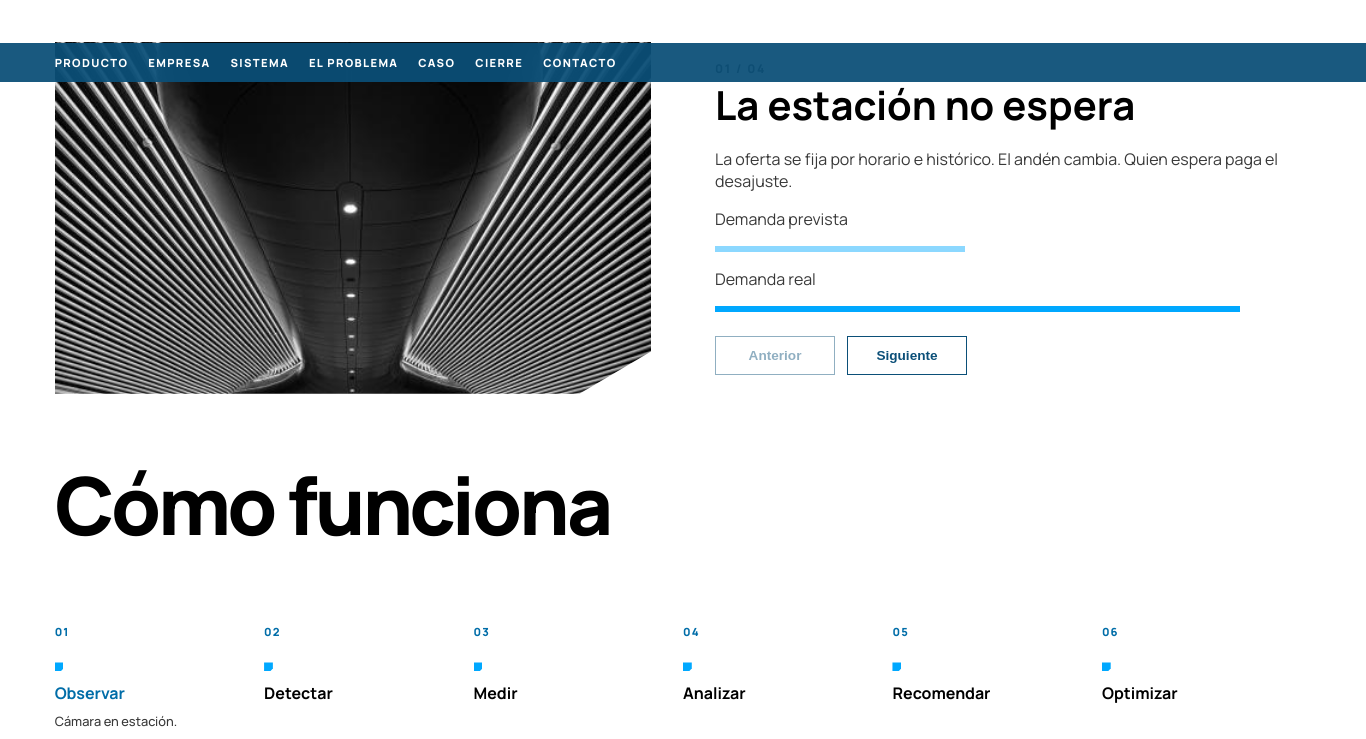
Test case: explains the product first, then the Transmilenio case and evidence
(page scrolled)
Expected: the heading "La estación no espera" is shown, [715, 77, 1135, 132]
Expected: the text "Observar" is shown, [55, 682, 125, 704]
Click the button "Siguiente" at coordinates (907, 356), box [847, 336, 967, 375]
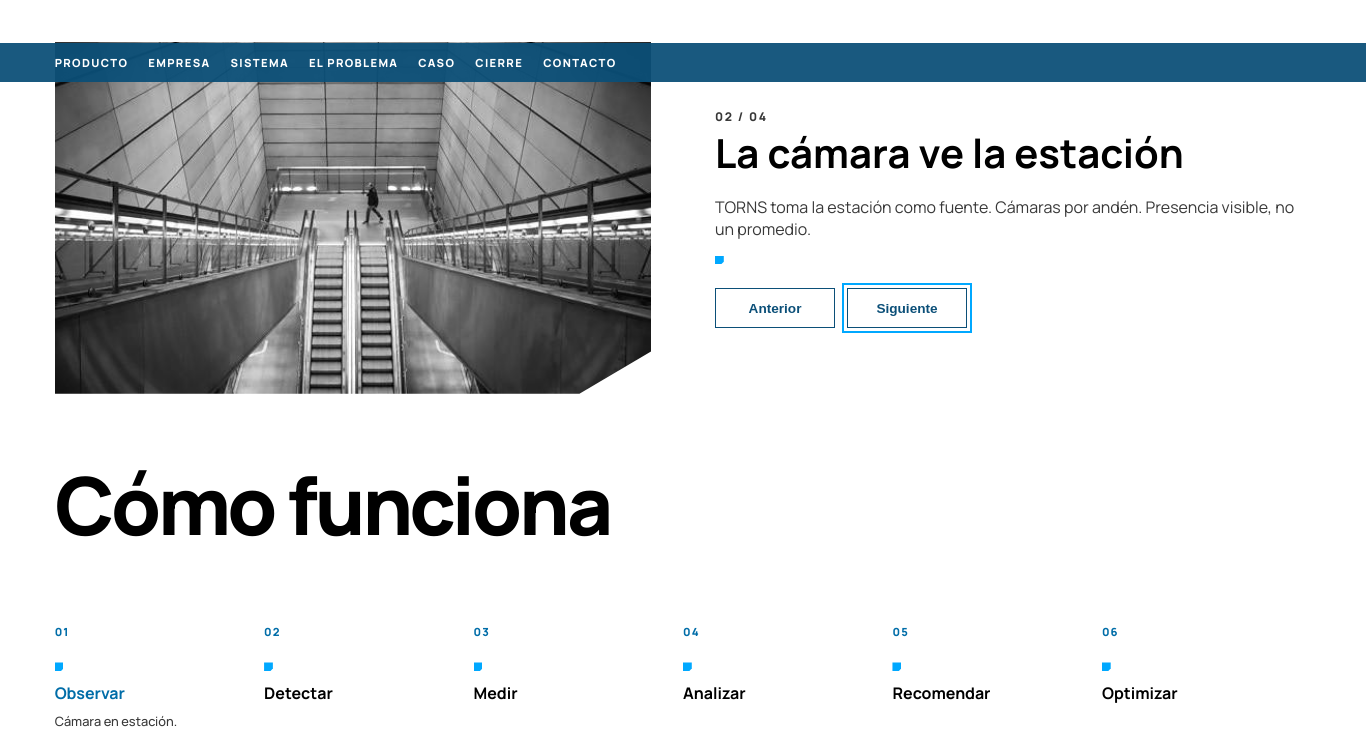
Expected: the heading "La cámara ve la estación" is shown, [715, 125, 1184, 180]
